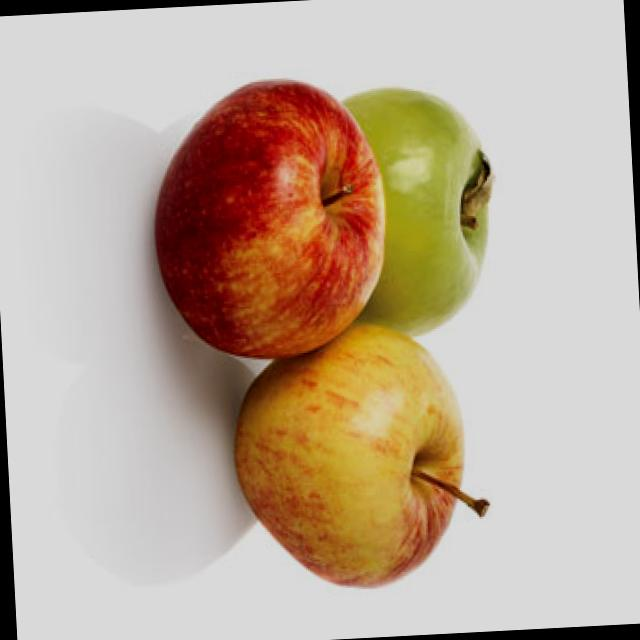apple: (221, 314, 476, 598), (146, 73, 392, 362)
